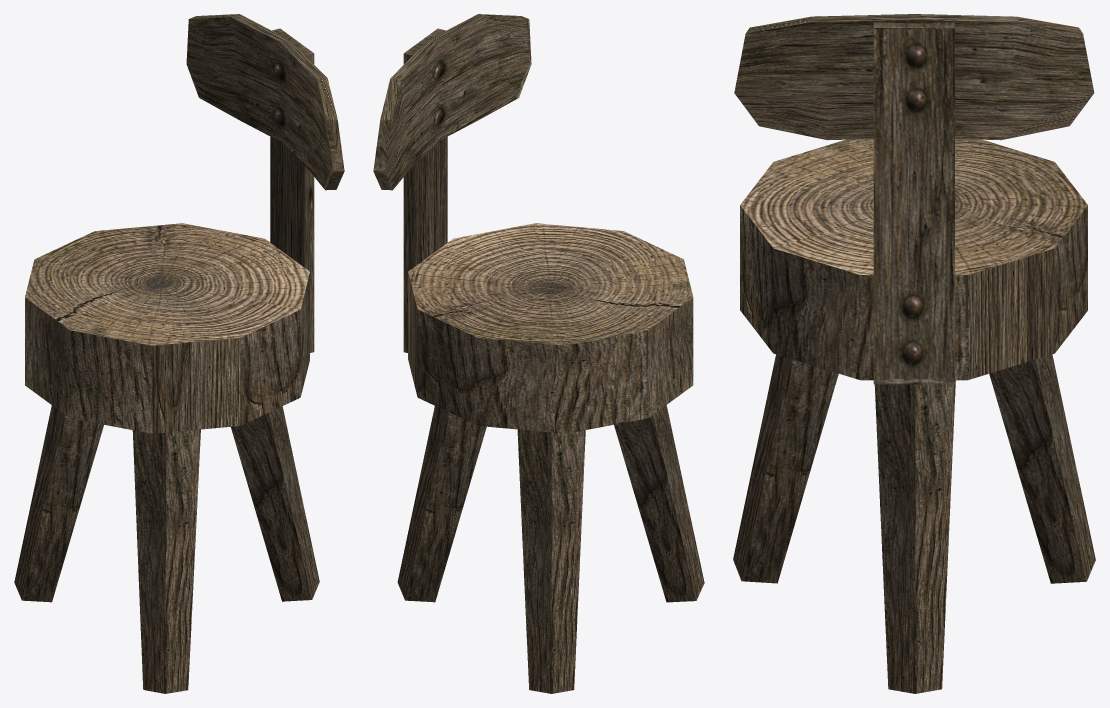
File: mm9_deco_stool02.glb
3 views of the same model, side by side, from view 1: azimuth 30°, elevation 25°; view 2: azimuth 150°, elevation 25°; view 3: azimuth 270°, elevation 25° (orthographic). The views are drawn at different scales.
Visible parts, largest first — view 1: Stool02; view 2: Stool02; view 3: Stool02.
Boxes of the visible parts, bbox=[...] form: Stool02: bbox=[14, 14, 344, 693]; Stool02: bbox=[373, 14, 704, 693]; Stool02: bbox=[733, 14, 1095, 693].
Size of the model in its own units: 0.6124 by 1.2 by 0.5909.
Materials: 1 (1 with a texture image).
